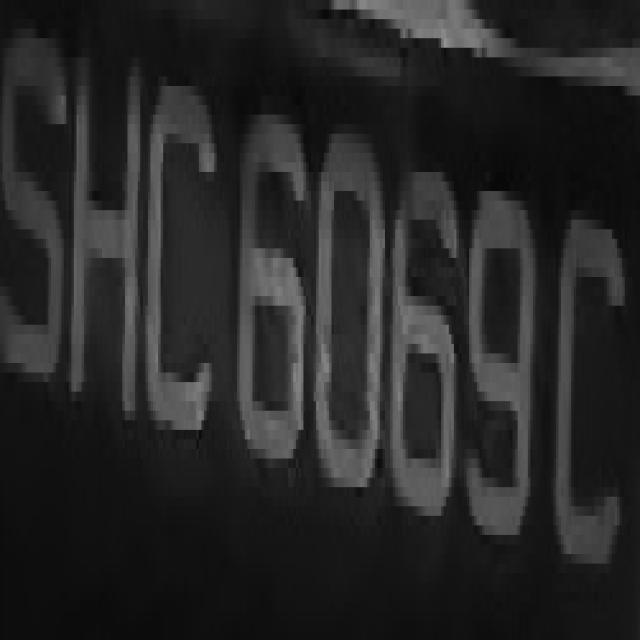0: (311, 105, 393, 525)
6: (390, 105, 464, 545), (235, 76, 311, 497)
9: (462, 162, 538, 564)
C: (143, 67, 222, 487), (546, 182, 627, 582)
H: (69, 38, 140, 449)
S: (0, 19, 71, 429)
